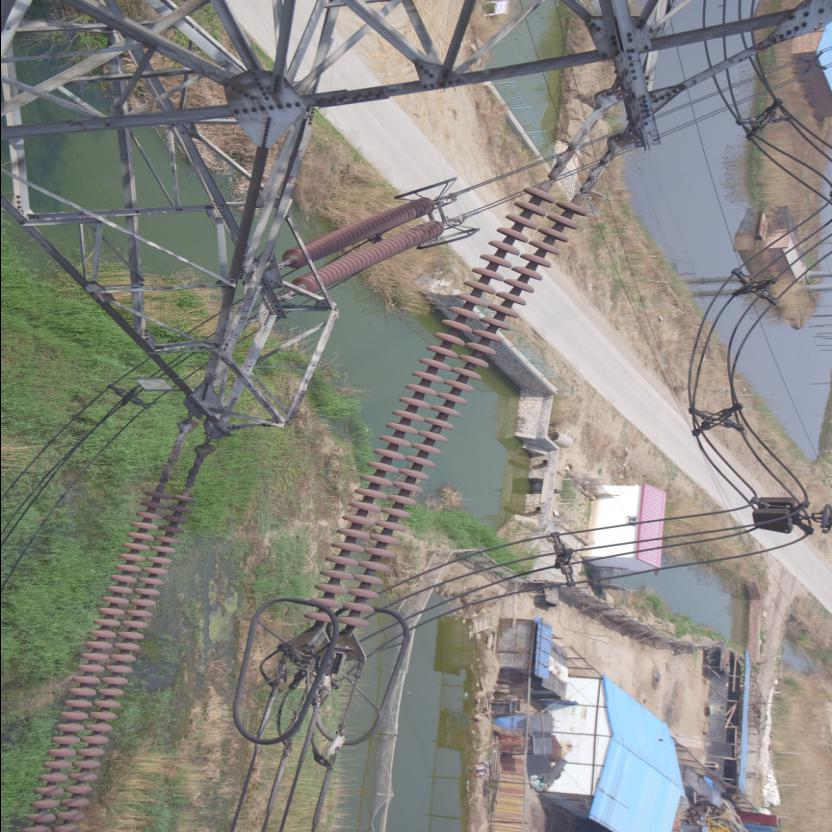insulator: (299, 171, 597, 632), (22, 461, 202, 831), (283, 198, 450, 314)
